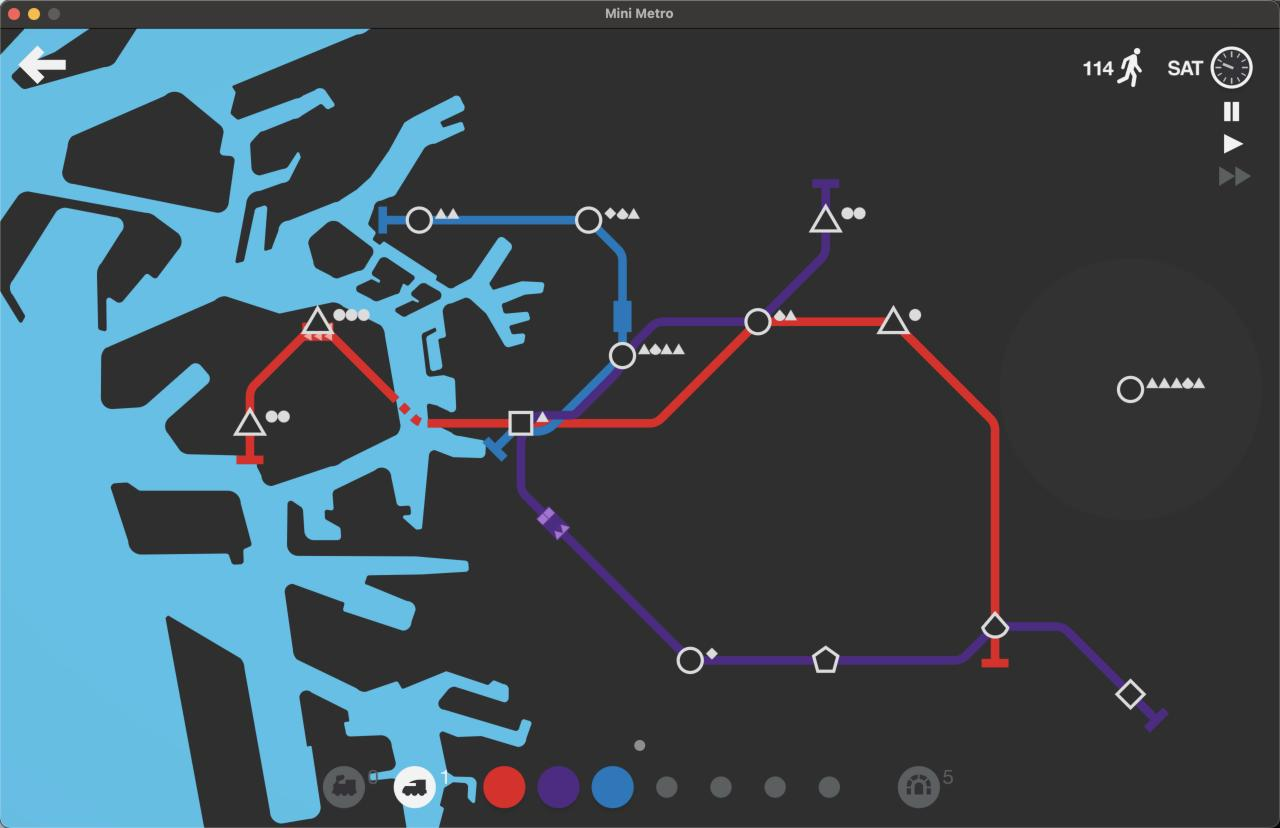CIRCLE: (404, 204, 434, 236), (608, 341, 637, 370), (743, 307, 772, 336), (676, 646, 705, 675), (1116, 375, 1145, 404), (574, 206, 602, 234)
GEM: (1112, 674, 1149, 713)
PENTAGON: (811, 645, 840, 675)
SQUARE: (507, 410, 536, 439)
TRIANGLE: (875, 303, 913, 336), (809, 202, 845, 235), (302, 304, 334, 337), (236, 409, 264, 435), (1223, 132, 1244, 154)
WEDGE: (979, 610, 1013, 641)
